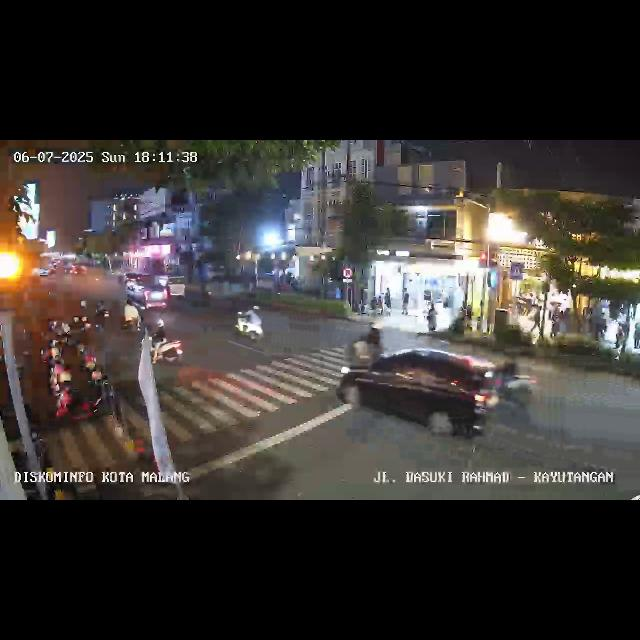car: (340, 348, 494, 440), (126, 283, 170, 311), (157, 274, 187, 300)
motorcycle: (475, 354, 539, 416), (150, 319, 186, 369), (232, 304, 266, 344), (122, 298, 142, 334), (96, 299, 112, 323)
person: (424, 301, 438, 335), (550, 304, 560, 341), (534, 306, 544, 342), (614, 322, 624, 354), (400, 287, 410, 315), (382, 288, 392, 314), (632, 320, 640, 352), (358, 287, 366, 313)
